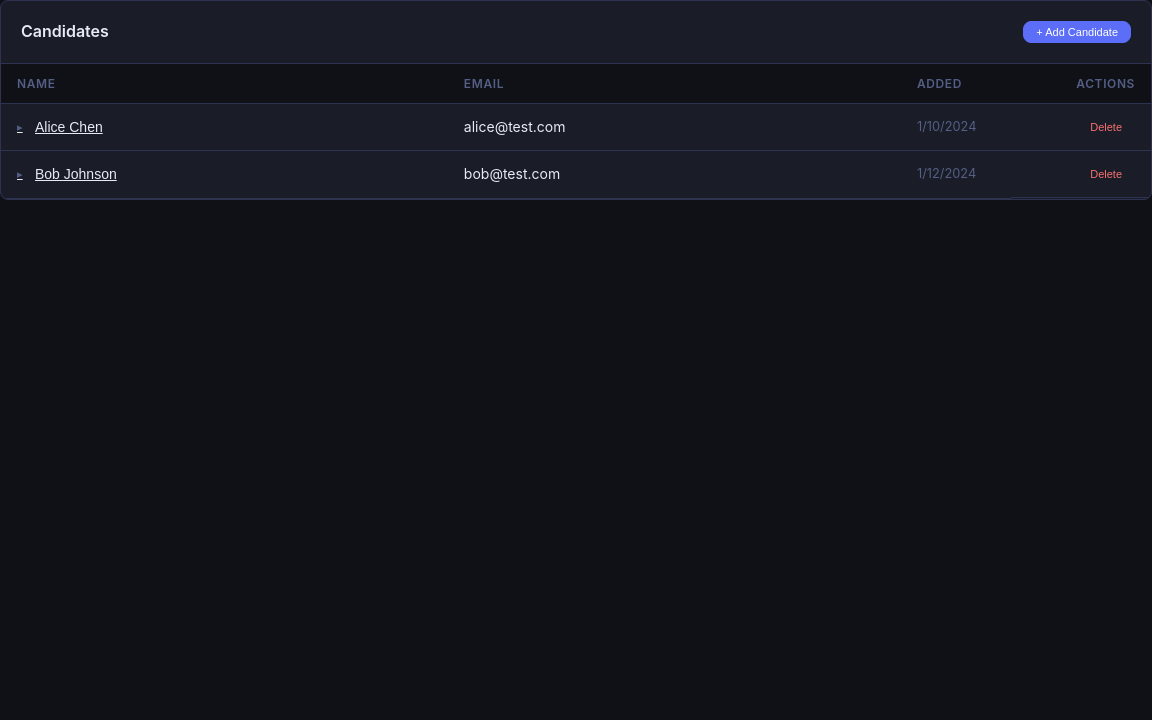
it: CandidateBoard › clicking + Add Candidate opens the ingestion modal
Click the button with test id "candidate-create-btn" at (1077, 32), box [1023,21,1131,43]
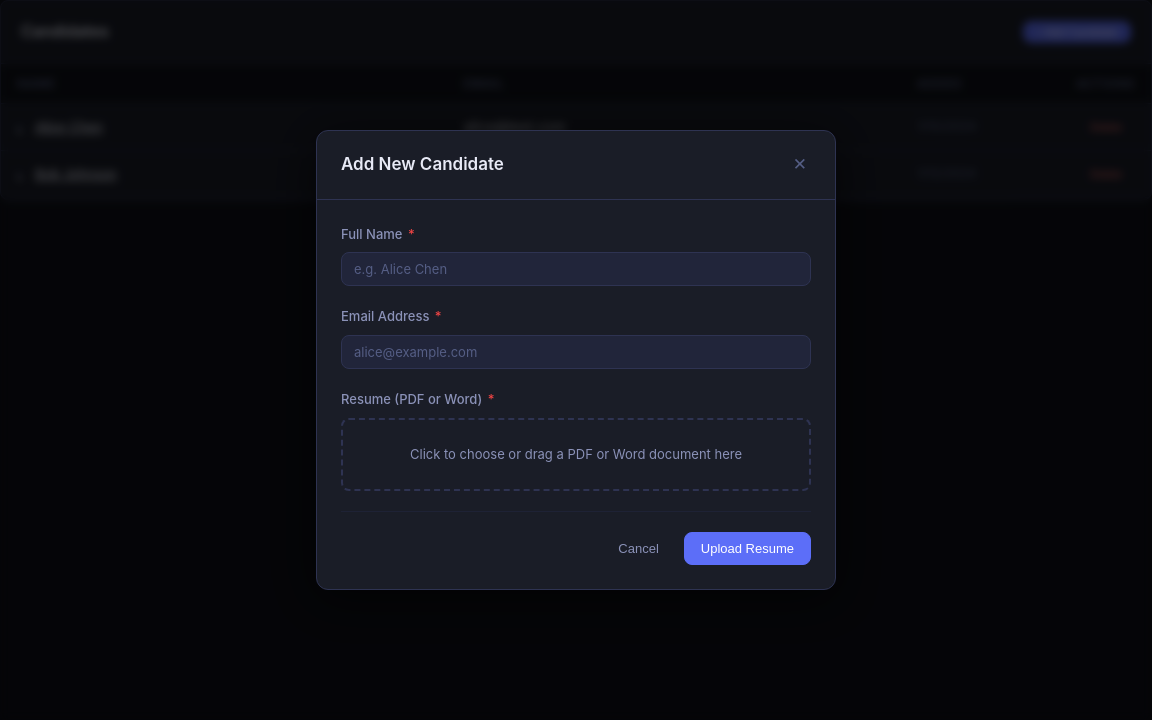
Expected: the dialog is shown, [316,130,836,590]
